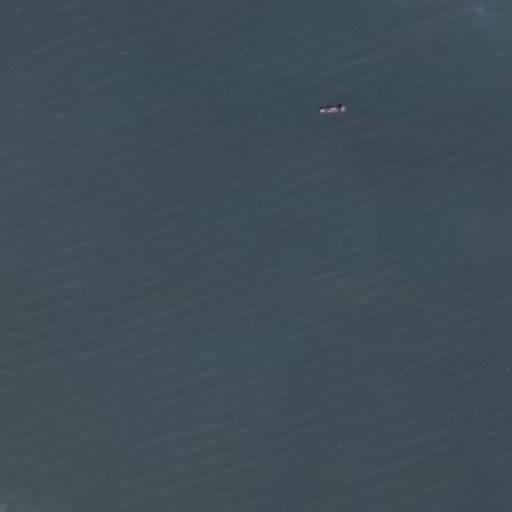ship: (315, 101, 350, 117)
